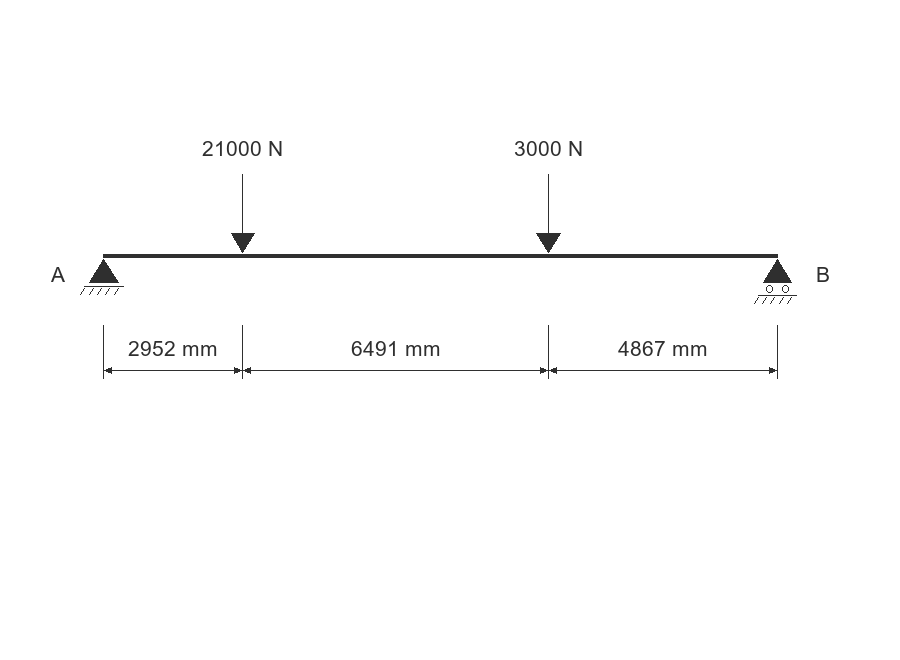pin_support: (80, 259, 124, 295)
point_load: (536, 174, 561, 253), (231, 174, 255, 253)
roller_support: (754, 259, 797, 304)
